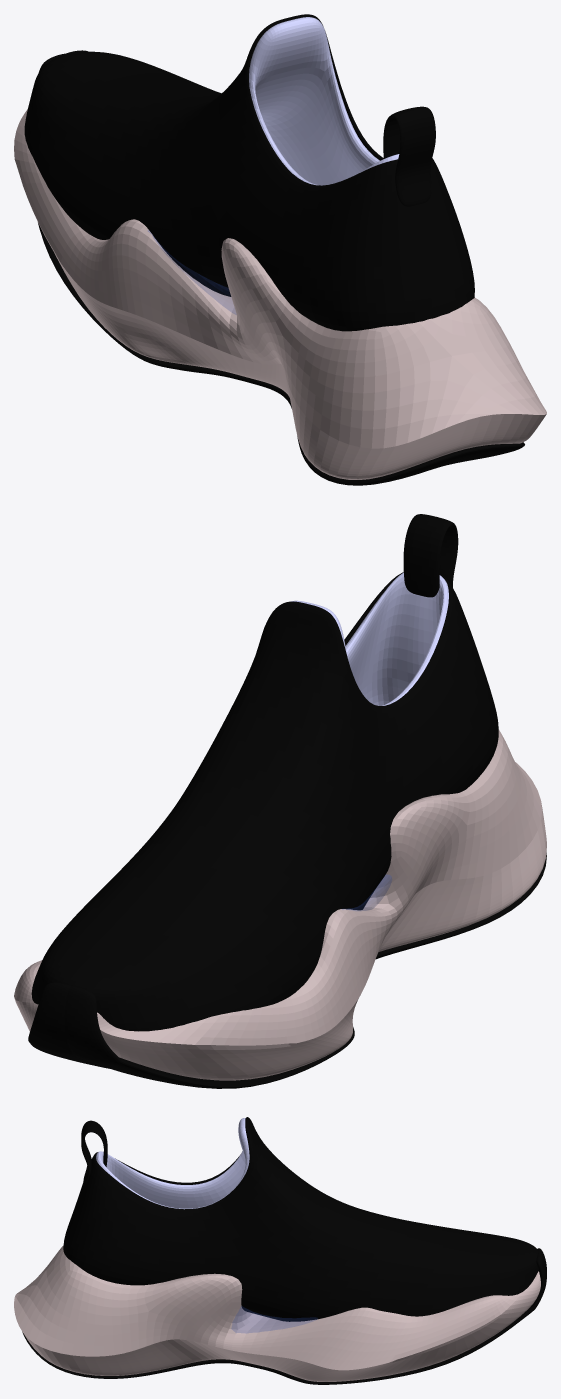
File: Im done.gltf
3 views of the same model, one above another, from view 1: azimuth 30°, elevation 25°; view 2: azimuth 150°, elevation 25°; view 3: azimuth 270°, elevation 25° (orthographic). The views are drawn at different scales.
Parts seen in each view (by area): view 1: soulThin01.002; view 2: soulThin01.002; view 3: soulThin01.002.
Part boxes in pixels (box(x1,y1,x2,y2)): soulThin01.002: box(14, 14, 546, 485); soulThin01.002: box(14, 514, 546, 1088); soulThin01.002: box(14, 1117, 546, 1384).
Size of the model in its own units: 0.8144 by 1.14 by 2.33.
